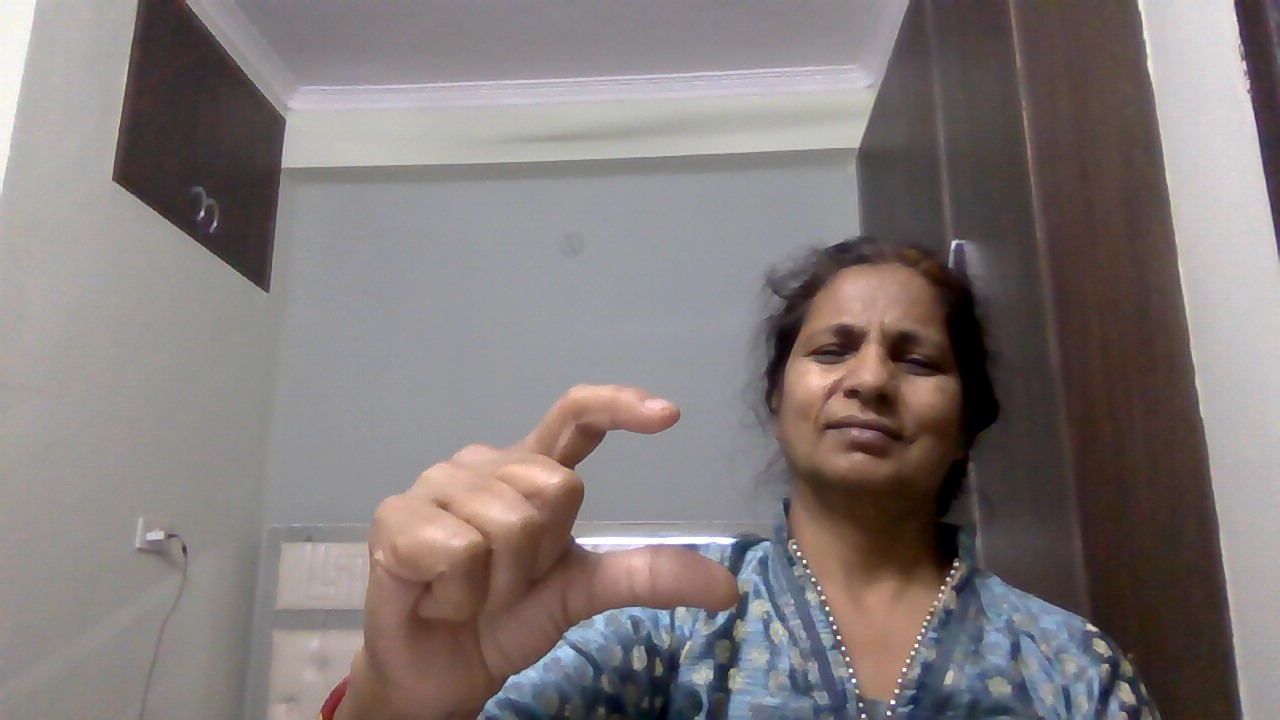Paste: (347, 370, 763, 704)
